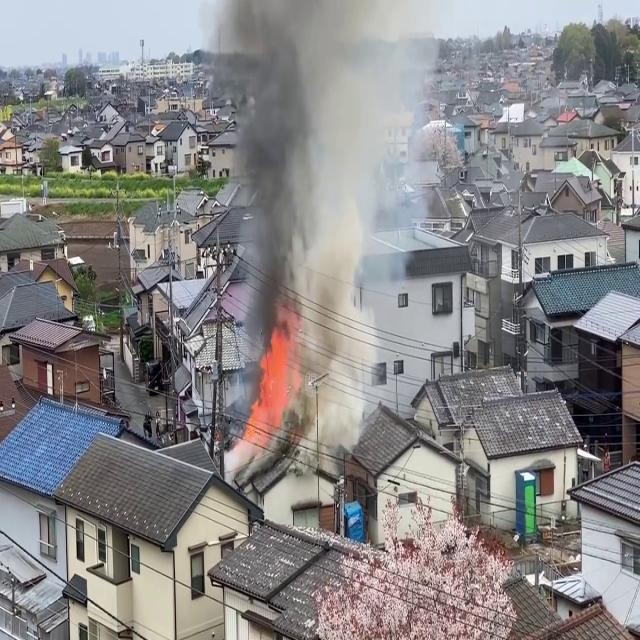Fire: (240, 320, 298, 446)
Smoke: (216, 0, 385, 444)
